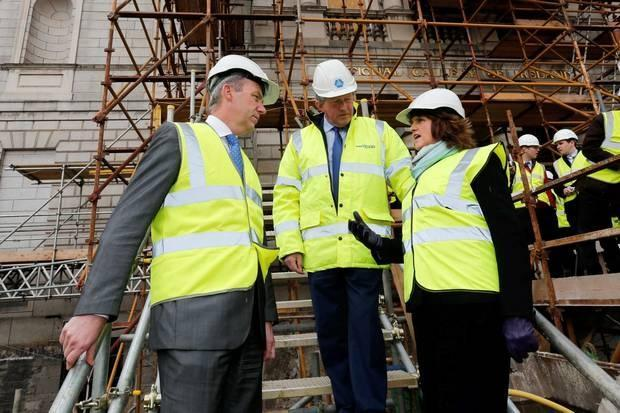helmet: (396, 86, 468, 132), (202, 51, 276, 95), (308, 58, 361, 103)
person: (267, 58, 414, 413), (134, 51, 277, 413), (397, 86, 526, 413)
vest: (164, 112, 266, 306), (279, 117, 396, 276), (402, 148, 504, 303)
